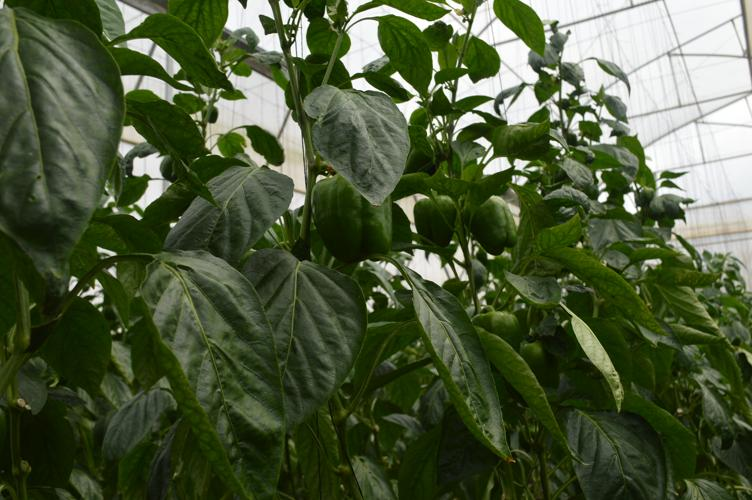BellPepper: (302, 168, 404, 259), (467, 193, 523, 262), (405, 185, 461, 253), (474, 304, 522, 351)
